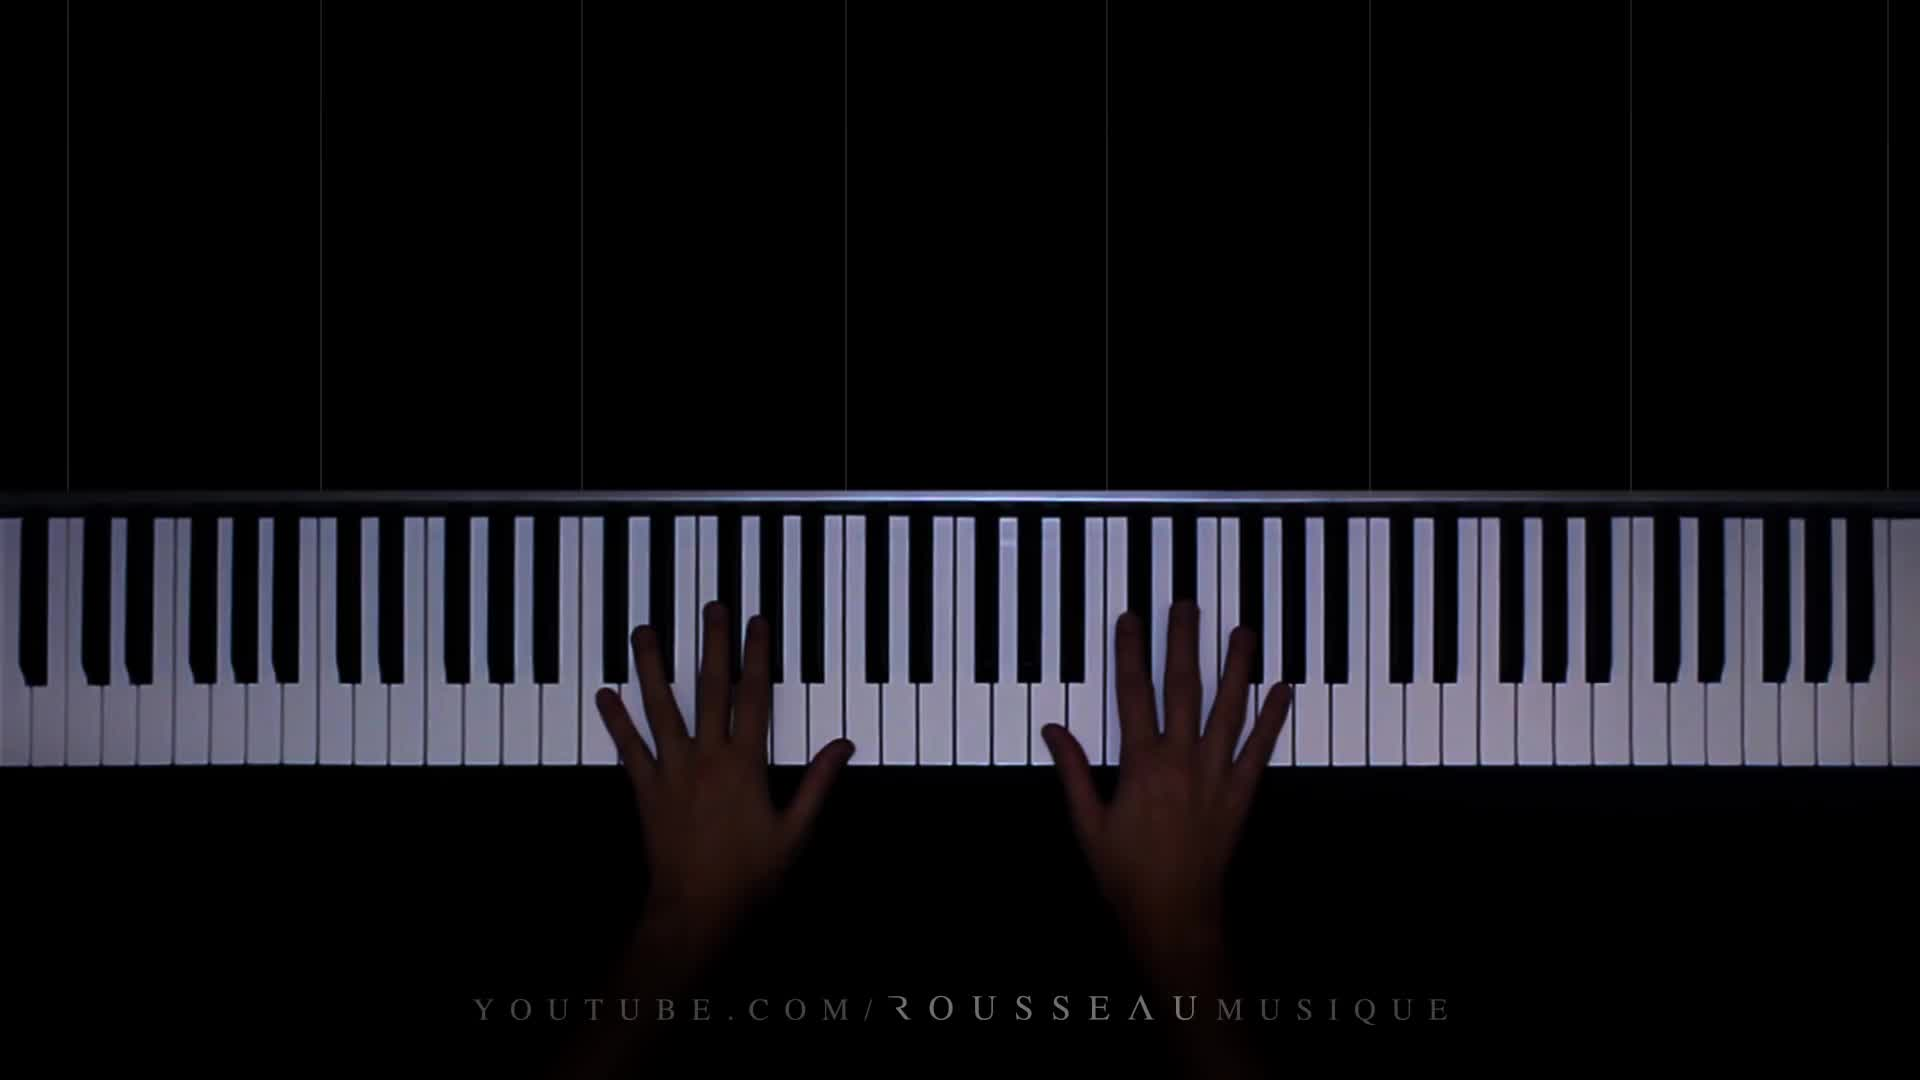left: (596, 601, 856, 887)
right: (1044, 604, 1291, 891)
